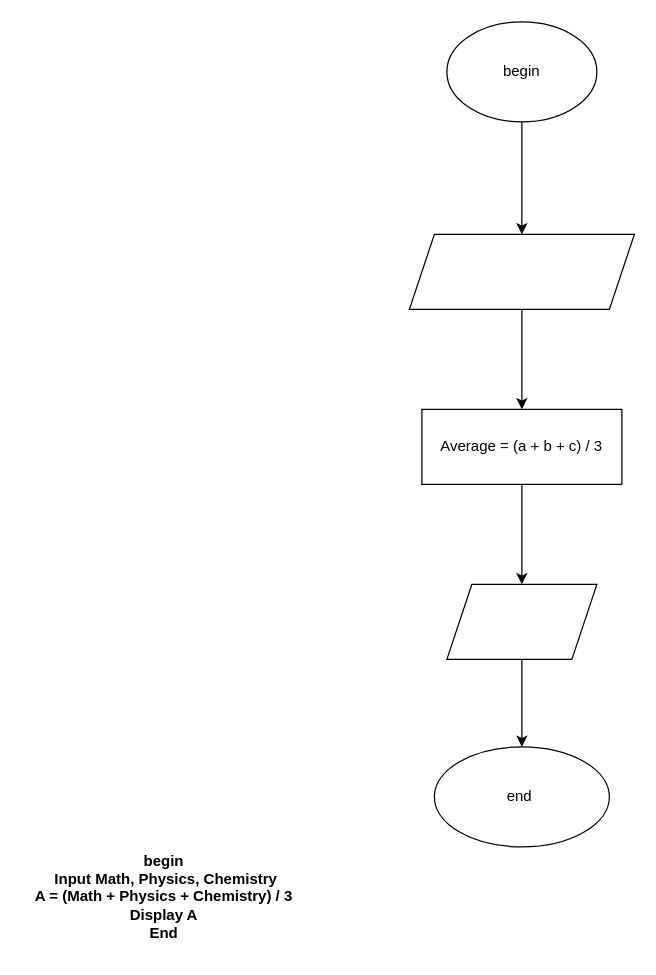
Image size: 656x975. Some labels were removed from this diagram. Each missing label, with the centre of its shape:
"input a, b, c, average" goes at (521,271).
"output average" goes at (521,621).
